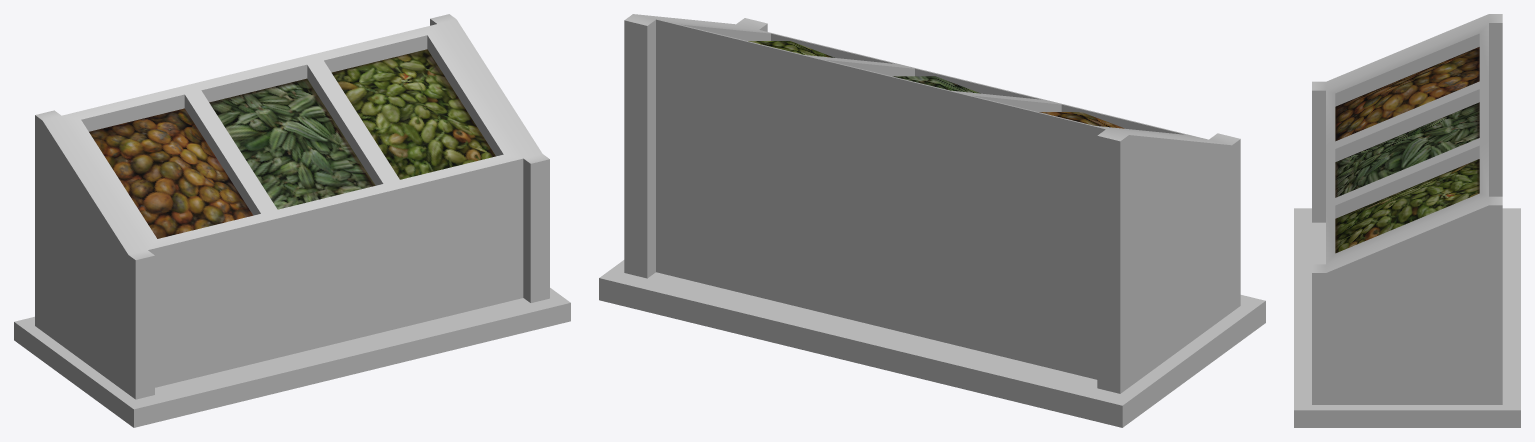
Rendered from Fruitstand01.FBX.
3 renders of one model, left to right at view 1: azimuth 30°, elevation 25°; view 2: azimuth 150°, elevation 25°; view 3: azimuth 270°, elevation 25°, orthographic. The views are drawn at different scales.
Visible parts, largest first — view 1: Fruitstand01; view 2: Fruitstand01; view 3: Fruitstand01.
Boxes of the visible parts, x1,y1,x2,y2 form: Fruitstand01: (14, 14, 570, 427); Fruitstand01: (599, 14, 1265, 427); Fruitstand01: (1294, 14, 1520, 427).
Bounding box in the file's own units: 235 × 118 × 112.
